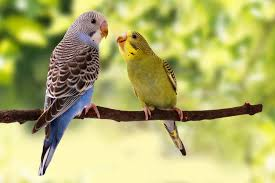budgie: (39, 11, 109, 176), (115, 29, 187, 157)
